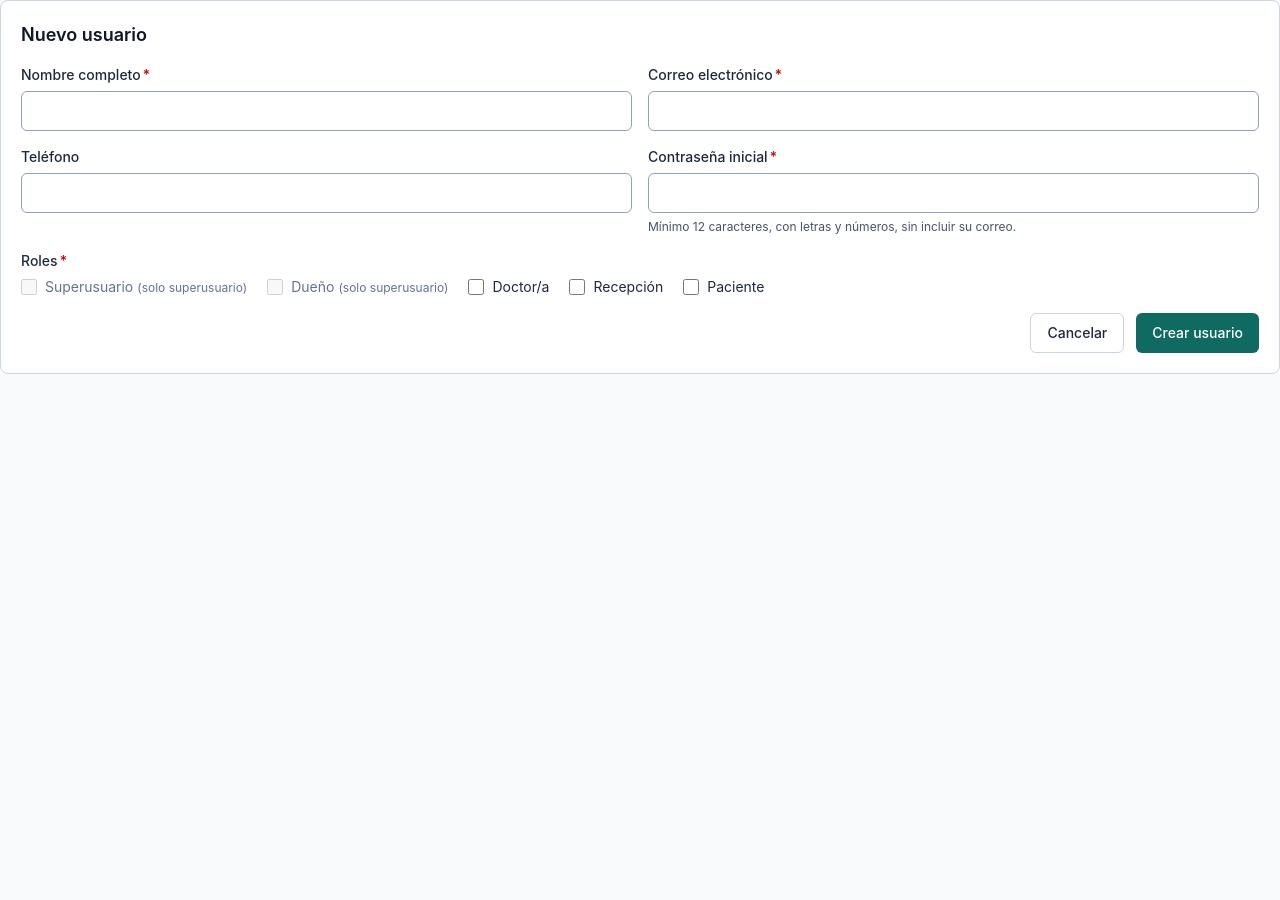
UserCreateForm › con rol Doctor exige colegiatura, colegio y especialidad
Click the checkbox labelled "Doctor/a" at (476, 287), box [468,279,484,295]
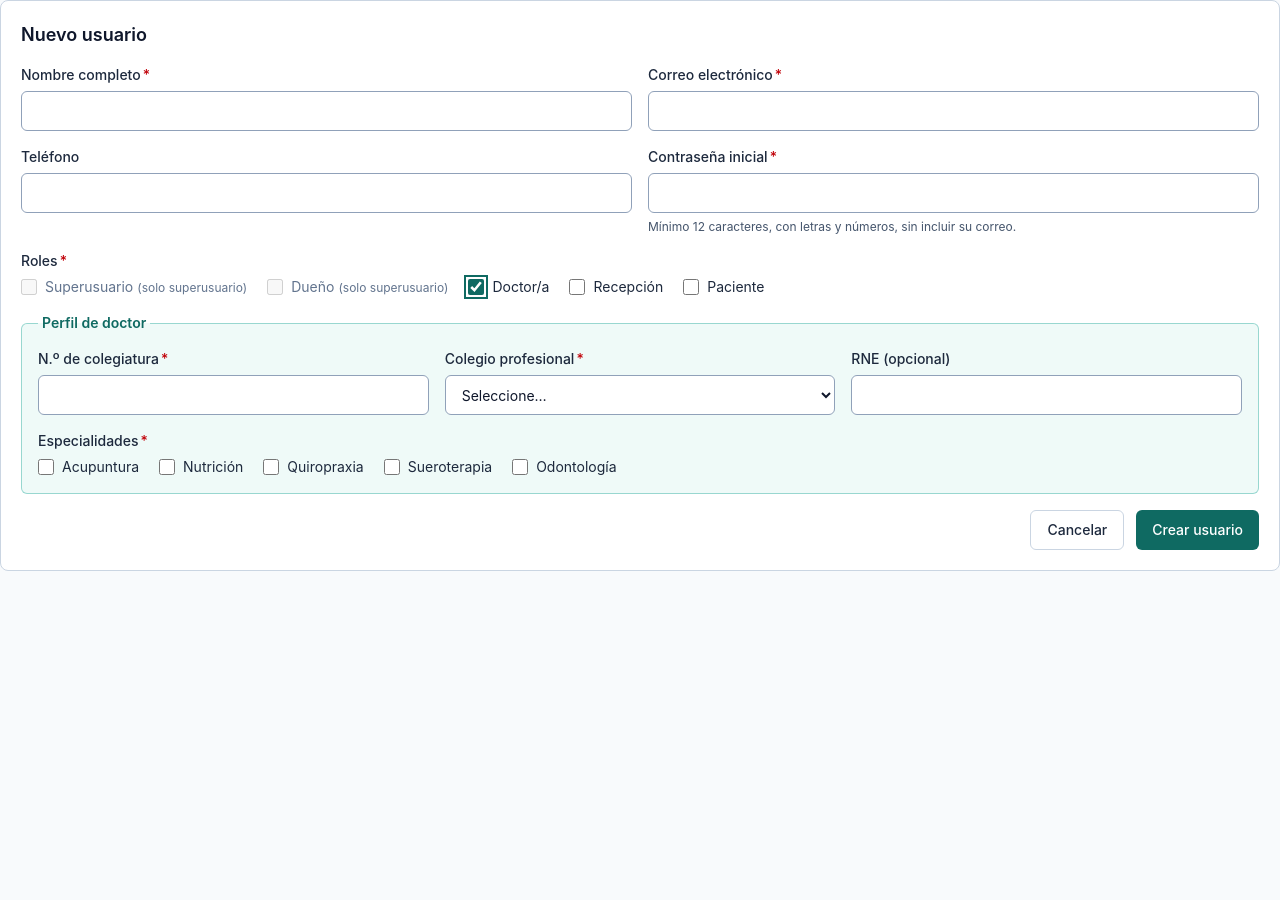
Click the button "Crear usuario" at (1198, 530), box [1136,510,1259,550]
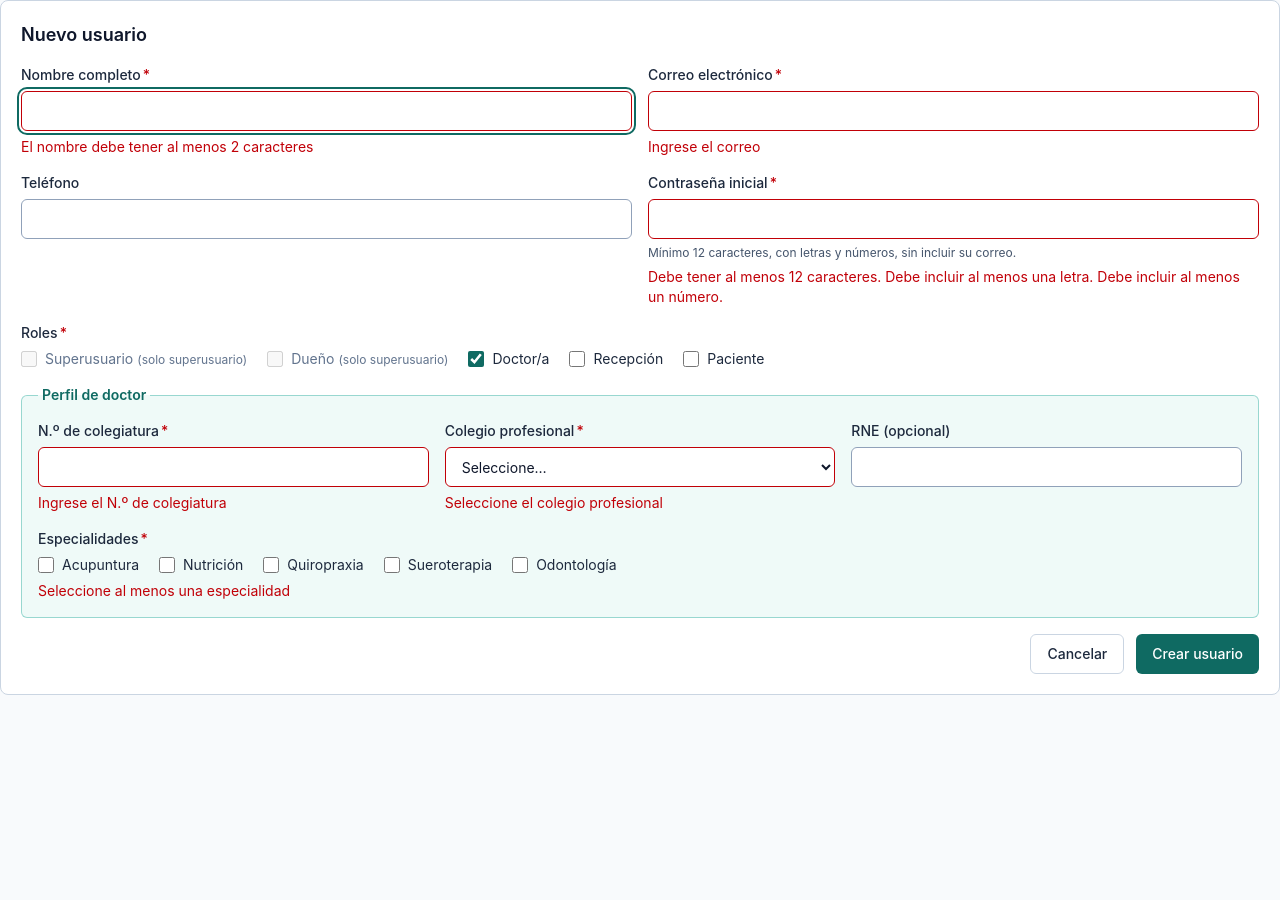
Now the text "Ingrese el N.º de colegiatura" is shown, box [38,494,226,511]
Now the text "Seleccione el colegio profesional" is shown, box [445,494,663,511]
Now the text "Seleccione al menos una especialidad" is shown, box [38,582,290,599]
